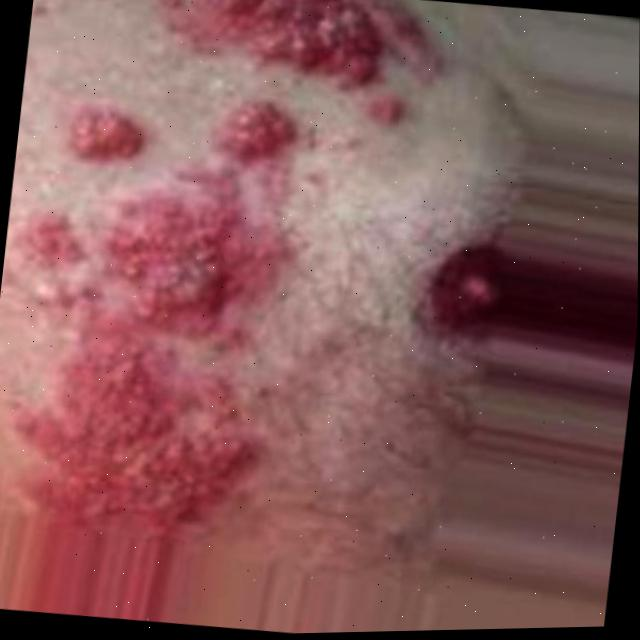Shingles: (0, 74, 328, 535), (143, 0, 453, 137)
